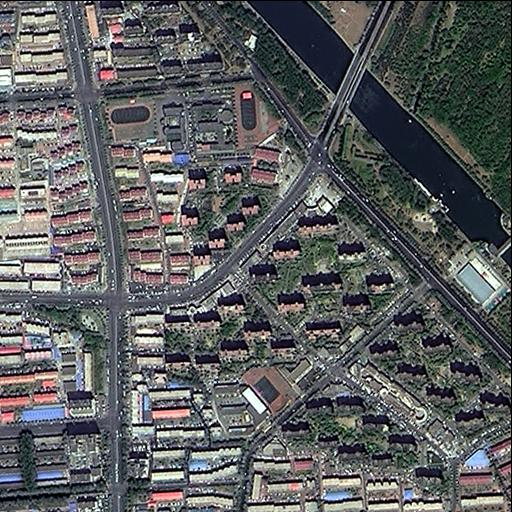school: (187, 83, 281, 155), (210, 362, 301, 436), (102, 93, 188, 150)
